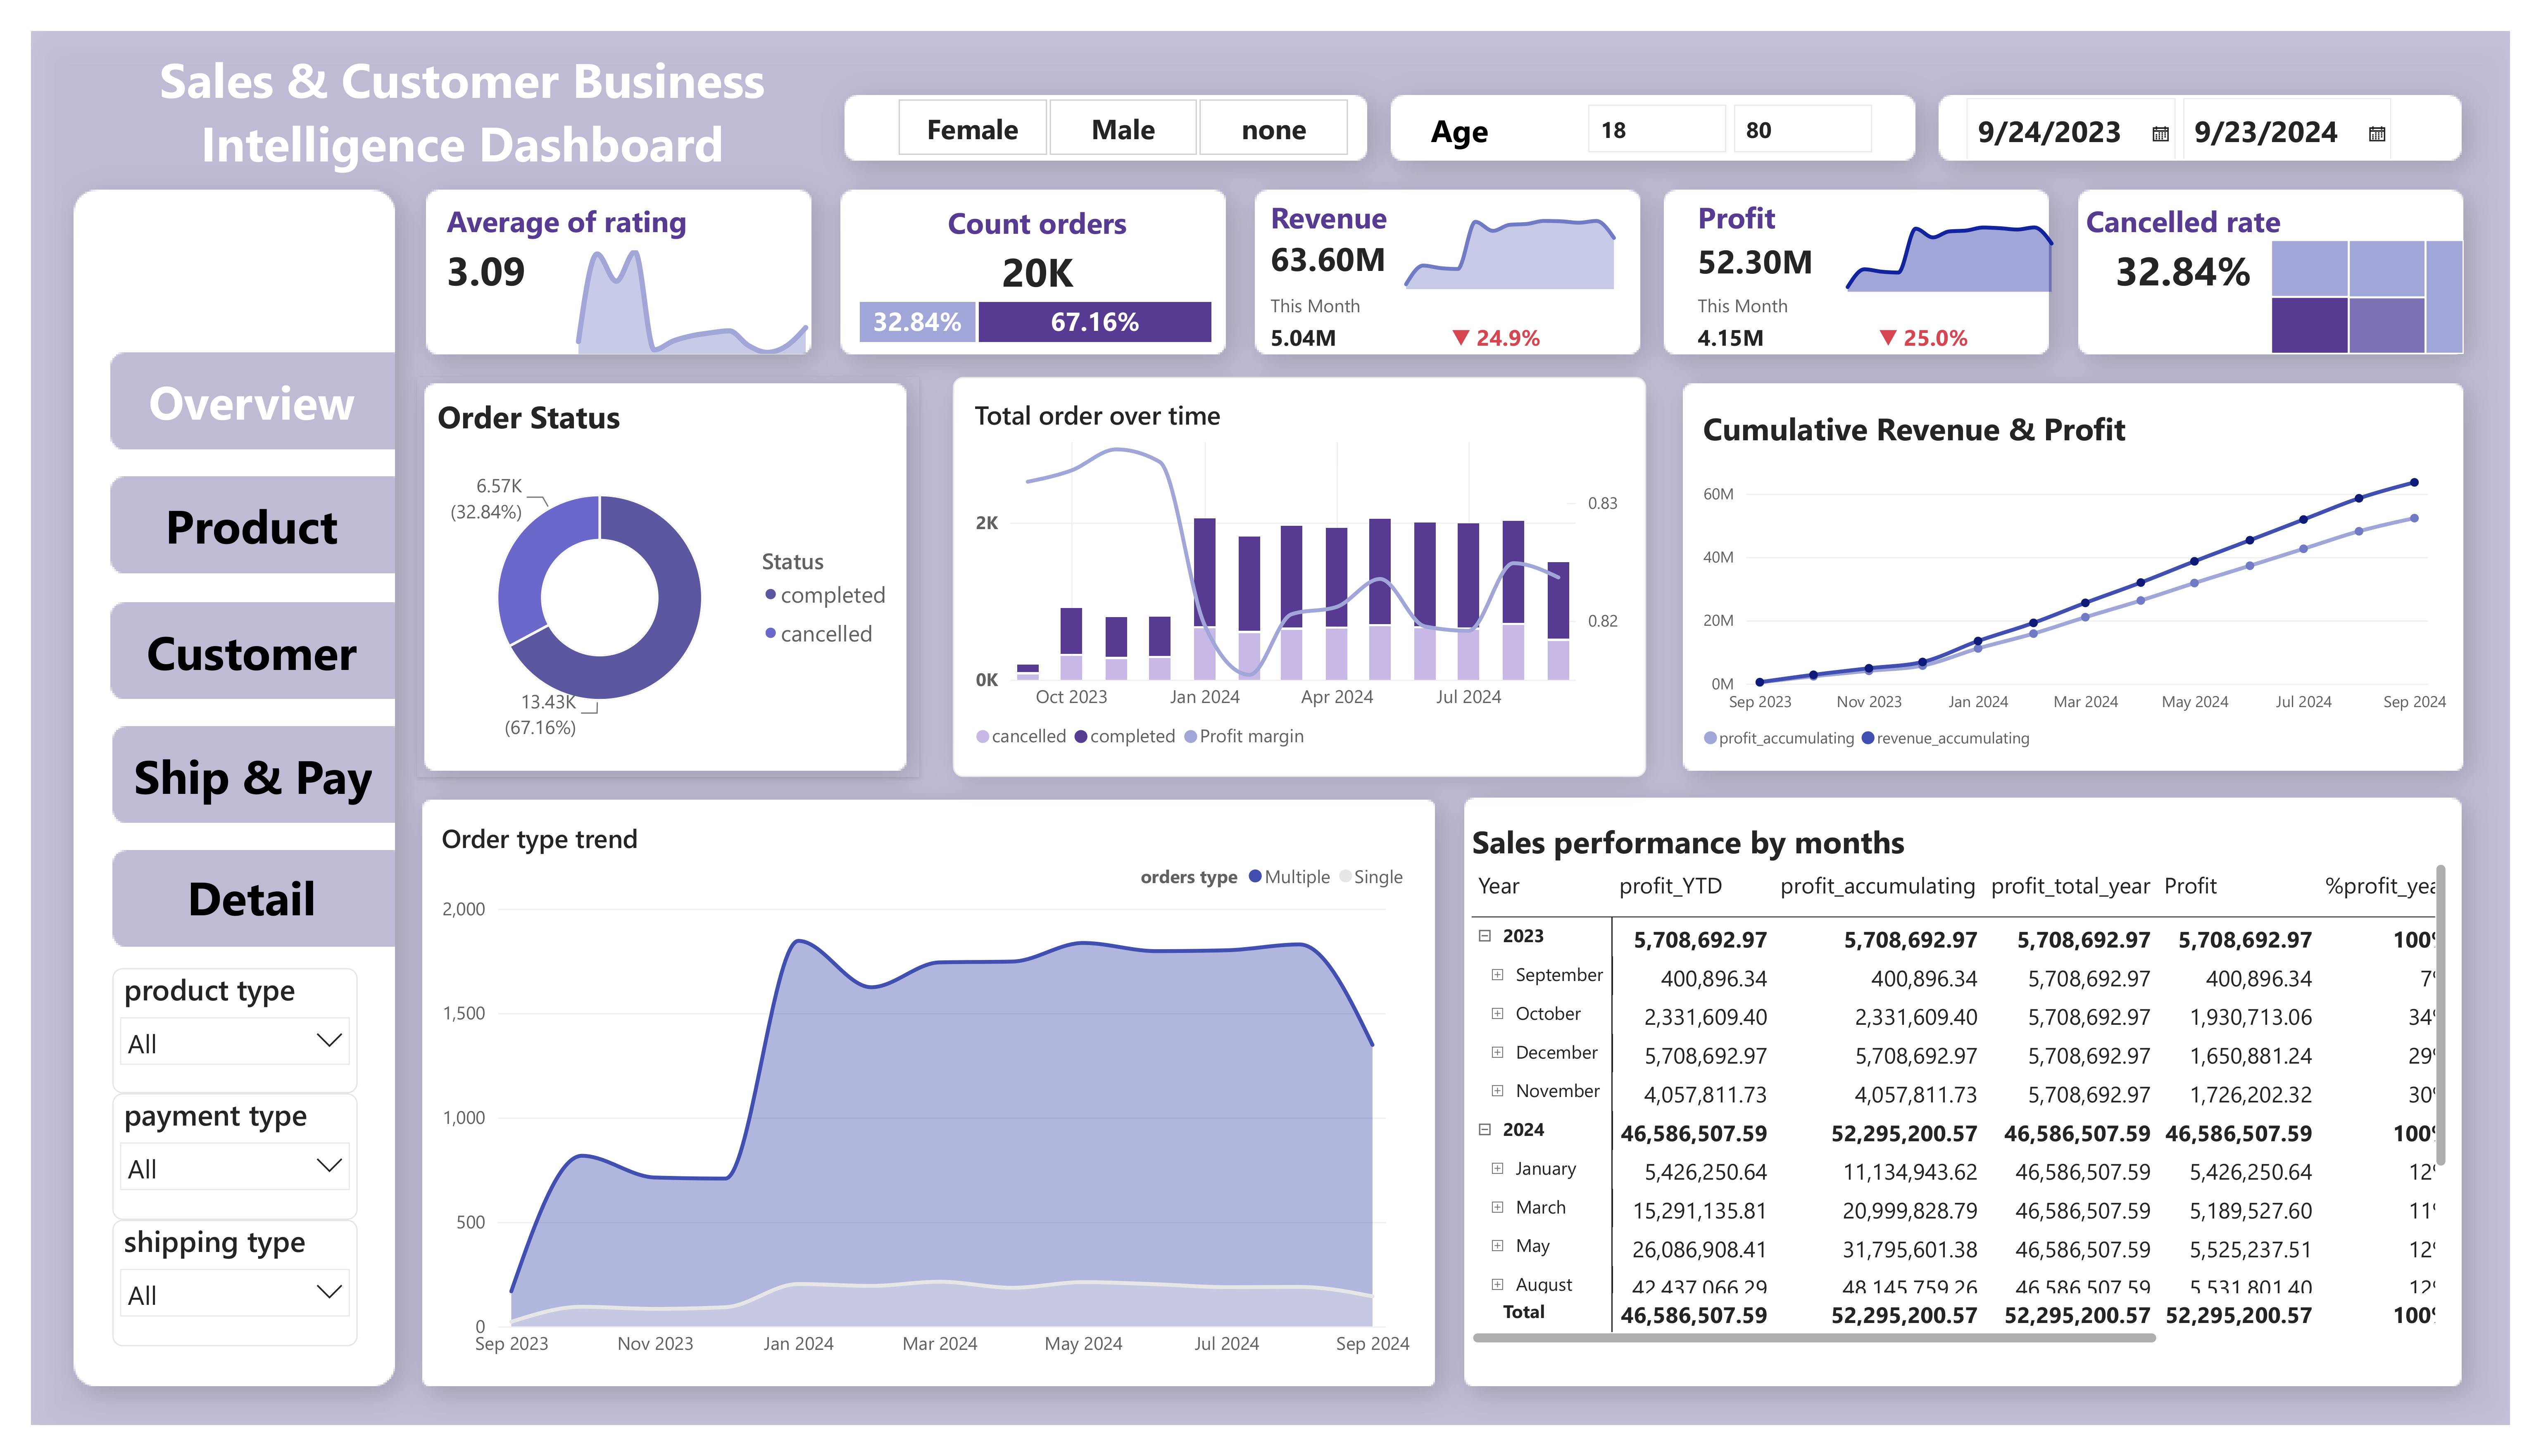

What the dashboard file says about the page in this screenshot:
{"tool":"powerbi","page":{"name":"Executive Overview","canvas":[1920,1080],"ordinal":0},"visuals":[{"type":"cardVisual","fields":{"Data":["Avg(fact_order.rating)"]},"box":[298.6,119.4,233.4,99.5],"z":0},{"type":"cardVisual","fields":{"Data":["*Measure.M_count orders"]},"box":[671.5,123.8,215.3,90.5],"z":1000},{"type":"donutChart","title":"Order Status","fields":{"Category":["fact_order.Status"],"Y":["CountNonNull(fact_order.Status)"]},"box":[298.7,268.4,389.5,309.5],"z":2000},{"type":"lineStackedColumnComboChart","title":"Total order over time","fields":{"Category":["dim_calendar.Start of Month"],"Series":["fact_order.Status"],"Y":["CountNonNull(fact_order.order id)"],"Y2":["*Measure.M_profit margin"]},"box":[714.2,268.4,536.7,309.5],"z":3000},{"type":"cardVisual","fields":{"Data":["*Measure.M_cancelled orders rate"]},"box":[1567.2,123.1,200.9,90.5],"z":4000},{"type":"cardVisual","fields":{"Data":["*Measure.Profit Current Month"]},"box":[1279.4,99.5,304,168.3],"z":5000},{"type":"cardVisual","fields":{"Data":["*Measure.Revenue Current Month"]},"box":[948.3,99.5,304,168.3],"z":6000},{"type":"lineChart","title":"Average of rating over time","fields":{"Category":["dim_calendar.Date.Variation.Date Hierarchy.Year","dim_calendar.Date.Variation.Date Hierarchy.Quarter","dim_calendar.Date.Variation.Date Hierarchy.Month"],"Y":["Avg(fact_order.rating)"]},"box":[398.1,148.4,228,117.6],"z":7000},{"type":"lineChart","title":"Order type trend","fields":{"Category":["dim_calendar.Start of Month.Variation.Date Hierarchy.Year","dim_calendar.Start of Month.Variation.Date Hierarchy.Quarter","dim_calendar.Start of Month.Variation.Date Hierarchy.Month","dim_calendar.Start of Month.Variation.Date Hierarchy.Day"],"Series":["fact_order.orders type"],"Y":["CountNonNull(fact_order.customer id)"]},"box":[302.2,597.2,781.8,450.6],"z":8000},{"type":"actionButton","box":[76,255.2,190,63.3],"z":9000},{"type":"actionButton","box":[76,351.1,190,63.3],"z":10000},{"type":"actionButton","box":[76,448.8,190,63.3],"z":11000},{"type":"actionButton","box":[76,638.8,190,63.3],"z":12000},{"type":"actionButton","box":[62.8,544.2,218,64.5],"z":13000},{"type":"slicer","fields":{"Values":["dim_calendar.Date"]},"box":[1491.2,47.1,371,52],"z":14000},{"type":"slicer","fields":{"Values":["dim_product.product type"]},"box":[63.3,725.7,190,97.7],"z":15000},{"type":"slicer","fields":{"Values":["dim_payment.payment type"]},"box":[63.3,823.4,190,97.7],"z":16000},{"type":"slicer","fields":{"Values":["dim_shipping.shipping type"]},"box":[63.3,921.1,190,97.7],"z":17000},{"type":"lineChart","title":"Average of rating over time","fields":{"Category":["dim_calendar.Date.Variation.Date Hierarchy.Year","dim_calendar.Date.Variation.Date Hierarchy.Quarter","dim_calendar.Date.Variation.Date Hierarchy.Month"],"Y":["*Measure.M_revenue1"]},"box":[1038.7,114,213.5,103.2],"z":18000},{"type":"lineChart","title":"Average of rating over time","fields":{"Category":["dim_calendar.Date.Variation.Date Hierarchy.Year","dim_calendar.Date.Variation.Date Hierarchy.Quarter","dim_calendar.Date.Variation.Date Hierarchy.Month"],"Y":["*Measure.M_profit"]},"box":[1380.8,124.9,209.9,94.1],"z":19000},{"type":"hundredPercentStackedBarChart","fields":{"Series":["fact_order.Status"],"Y":["*Measure.M_count orders"]},"box":[626.1,148.4,304,150.2],"z":20000},{"type":"treemap","fields":{"Group":["dim_product.product type"],"Values":["*Measure.M_cancelled orders rate"]},"box":[1719.2,148.4,181,117.6],"z":21000},{"type":"slicer","fields":{"Values":["dim_customer.age"]},"box":[1198,52.5,244.3,41.6],"z":22000},{"type":"textbox","box":[1084,59.7,74.2,34.4],"z":23000},{"type":"slicer","fields":{"Values":["dim_customer.gender"]},"box":[651.5,50.7,387.3,47],"z":24000},{"type":"pivotTable","title":"Sales performance by months","fields":{"Rows":["dim_calendar.Date.Variation.Date Hierarchy.Year","dim_calendar.Date.Variation.Date Hierarchy.Month","dim_calendar.Date.Variation.Date Hierarchy.Day"],"Values":["*Measure.M_profit_YTD","*Measure.M_profit_accumulating","*Measure.M_profit_total_year","*Measure.M_profit","*Measure.M_%profit_year","*Measure.M_profit_lastmonth","*Measure.M_profit_MOM"]},"box":[1100.3,597.2,787.2,436.1],"z":25000},{"type":"lineChart","title":"Cumulative Revenue & Profit","fields":{"Category":["dim_calendar.Start of Month.Variation.Date Hierarchy.Year","dim_calendar.Start of Month.Variation.Date Hierarchy.Quarter","dim_calendar.Start of Month.Variation.Date Hierarchy.Month","dim_calendar.Start of Month.Variation.Date Hierarchy.Day"],"Y":["*Measure.M_profit_accumulating","*Measure.M_revenue_accumulating"]},"box":[1279.4,276.9,608,300.4],"z":26000},{"type":"textbox","box":[41.9,12.2,584.6,106],"z":27000}]}

Visuals, with their boxes on the page's 1920x1080 design canvas (x1, y1, x2, y2). These are canvas units, not pixel positions in the 2541x1456 screenshot, which may show the page scaled, cropped or inside an application window:
cardVisual - Avg(fact_order.rating): region(299, 119, 532, 219)
cardVisual - *Measure.M_count orders: region(672, 124, 887, 214)
"Order Status" donutChart: region(299, 268, 688, 578)
"Total order over time" lineStackedColumnComboChart: region(714, 268, 1251, 578)
cardVisual - *Measure.M_cancelled orders rate: region(1567, 123, 1768, 214)
cardVisual - *Measure.Profit Current Month: region(1279, 100, 1583, 268)
cardVisual - *Measure.Revenue Current Month: region(948, 100, 1252, 268)
"Average of rating over time" lineChart: region(398, 148, 626, 266)
"Order type trend" lineChart: region(302, 597, 1084, 1048)
actionButton: region(76, 255, 266, 318)
actionButton: region(76, 351, 266, 414)
actionButton: region(76, 449, 266, 512)
actionButton: region(76, 639, 266, 702)
actionButton: region(63, 544, 281, 609)
slicer - dim_calendar.Date: region(1491, 47, 1862, 99)
slicer - dim_product.product type: region(63, 726, 253, 823)
slicer - dim_payment.payment type: region(63, 823, 253, 921)
slicer - dim_shipping.shipping type: region(63, 921, 253, 1019)
"Average of rating over time" lineChart: region(1039, 114, 1252, 217)
"Average of rating over time" lineChart: region(1381, 125, 1591, 219)
hundredPercentStackedBarChart - fact_order.Status x *Measure.M_count orders: region(626, 148, 930, 299)
treemap - dim_product.product type x *Measure.M_cancelled orders rate: region(1719, 148, 1900, 266)
slicer - dim_customer.age: region(1198, 52, 1442, 94)
textbox: region(1084, 60, 1158, 94)
slicer - dim_customer.gender: region(652, 51, 1039, 98)
"Sales performance by months" pivotTable: region(1100, 597, 1888, 1033)
"Cumulative Revenue & Profit" lineChart: region(1279, 277, 1887, 577)
textbox: region(42, 12, 626, 118)
